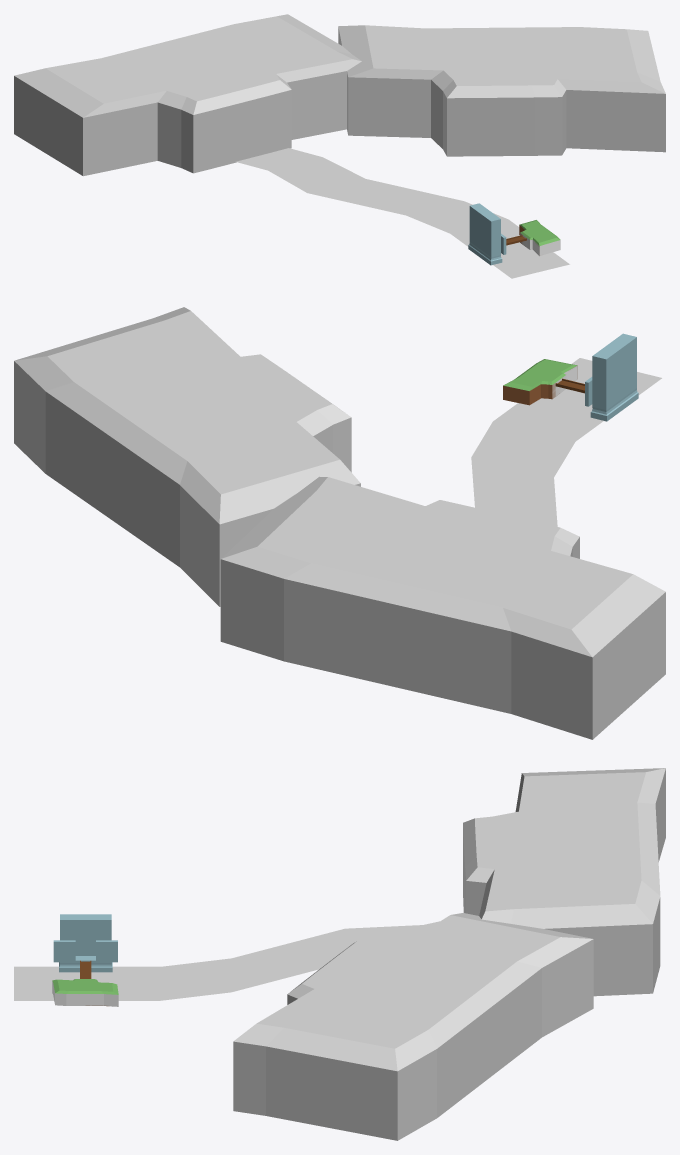
The model's file is ch1_overworld_env.glb.
3 renders of one model, top to bottom at view 1: azimuth 30°, elevation 25°; view 2: azimuth 150°, elevation 25°; view 3: azimuth 270°, elevation 25°, orthographic. The views are drawn at different scales.
Parts seen in each view (by area): view 1: BG_2, BG_1, Plane, Entrance, Land; view 2: BG_2, BG_1, Plane, Entrance, Land; view 3: BG_1, BG_2, Plane, Entrance, Land.
Boxes of the visible parts, box(x1,y1,x2,y2) form: BG_2: box(14, 14, 361, 176); BG_1: box(338, 25, 665, 156); Plane: box(236, 148, 569, 278); Entrance: box(468, 203, 506, 265); Land: box(519, 220, 560, 256); BG_2: box(220, 476, 665, 739); BG_1: box(14, 307, 360, 606); Plane: box(471, 358, 661, 526); Entrance: box(585, 333, 638, 421); Land: box(503, 359, 577, 405); BG_1: box(233, 913, 593, 1140); BG_2: box(463, 768, 665, 996); Plane: box(14, 921, 439, 1000); Entrance: box(53, 914, 117, 972); Land: box(52, 979, 118, 1006).
Bounding box in the file's own units: 468 × 56.82 × 425.
Materials: 4 (1 with a texture image).
